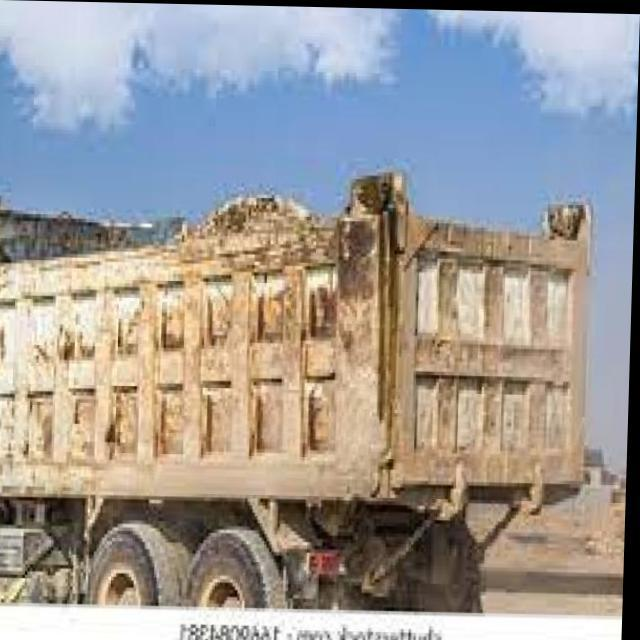uncovered: (0, 129, 637, 549)
